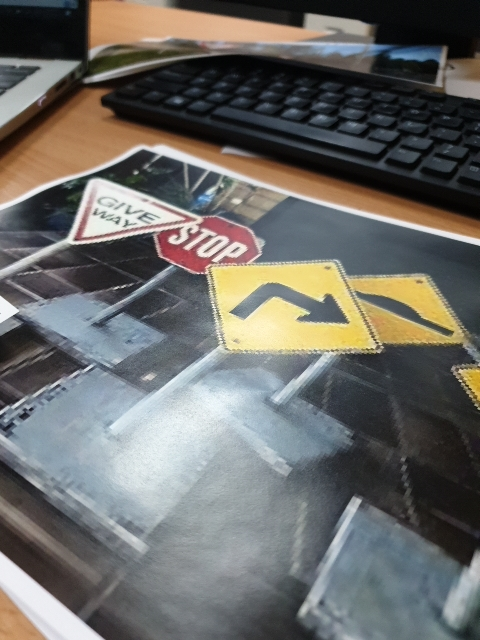giveway: (75, 176, 199, 251)
right: (213, 253, 380, 360)
stop: (168, 209, 268, 270)
